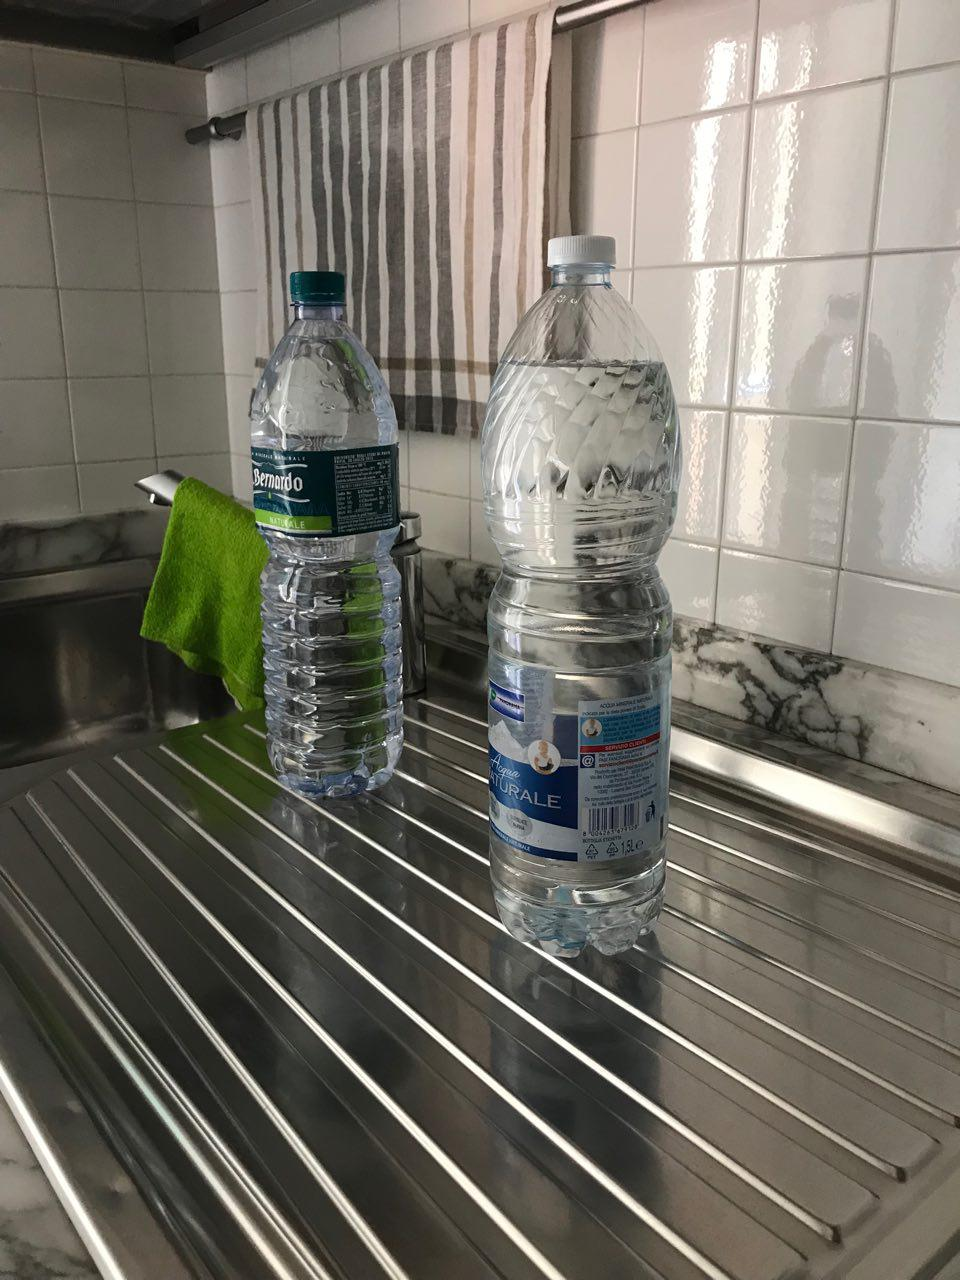san_bernardo: (250, 270, 405, 799)
